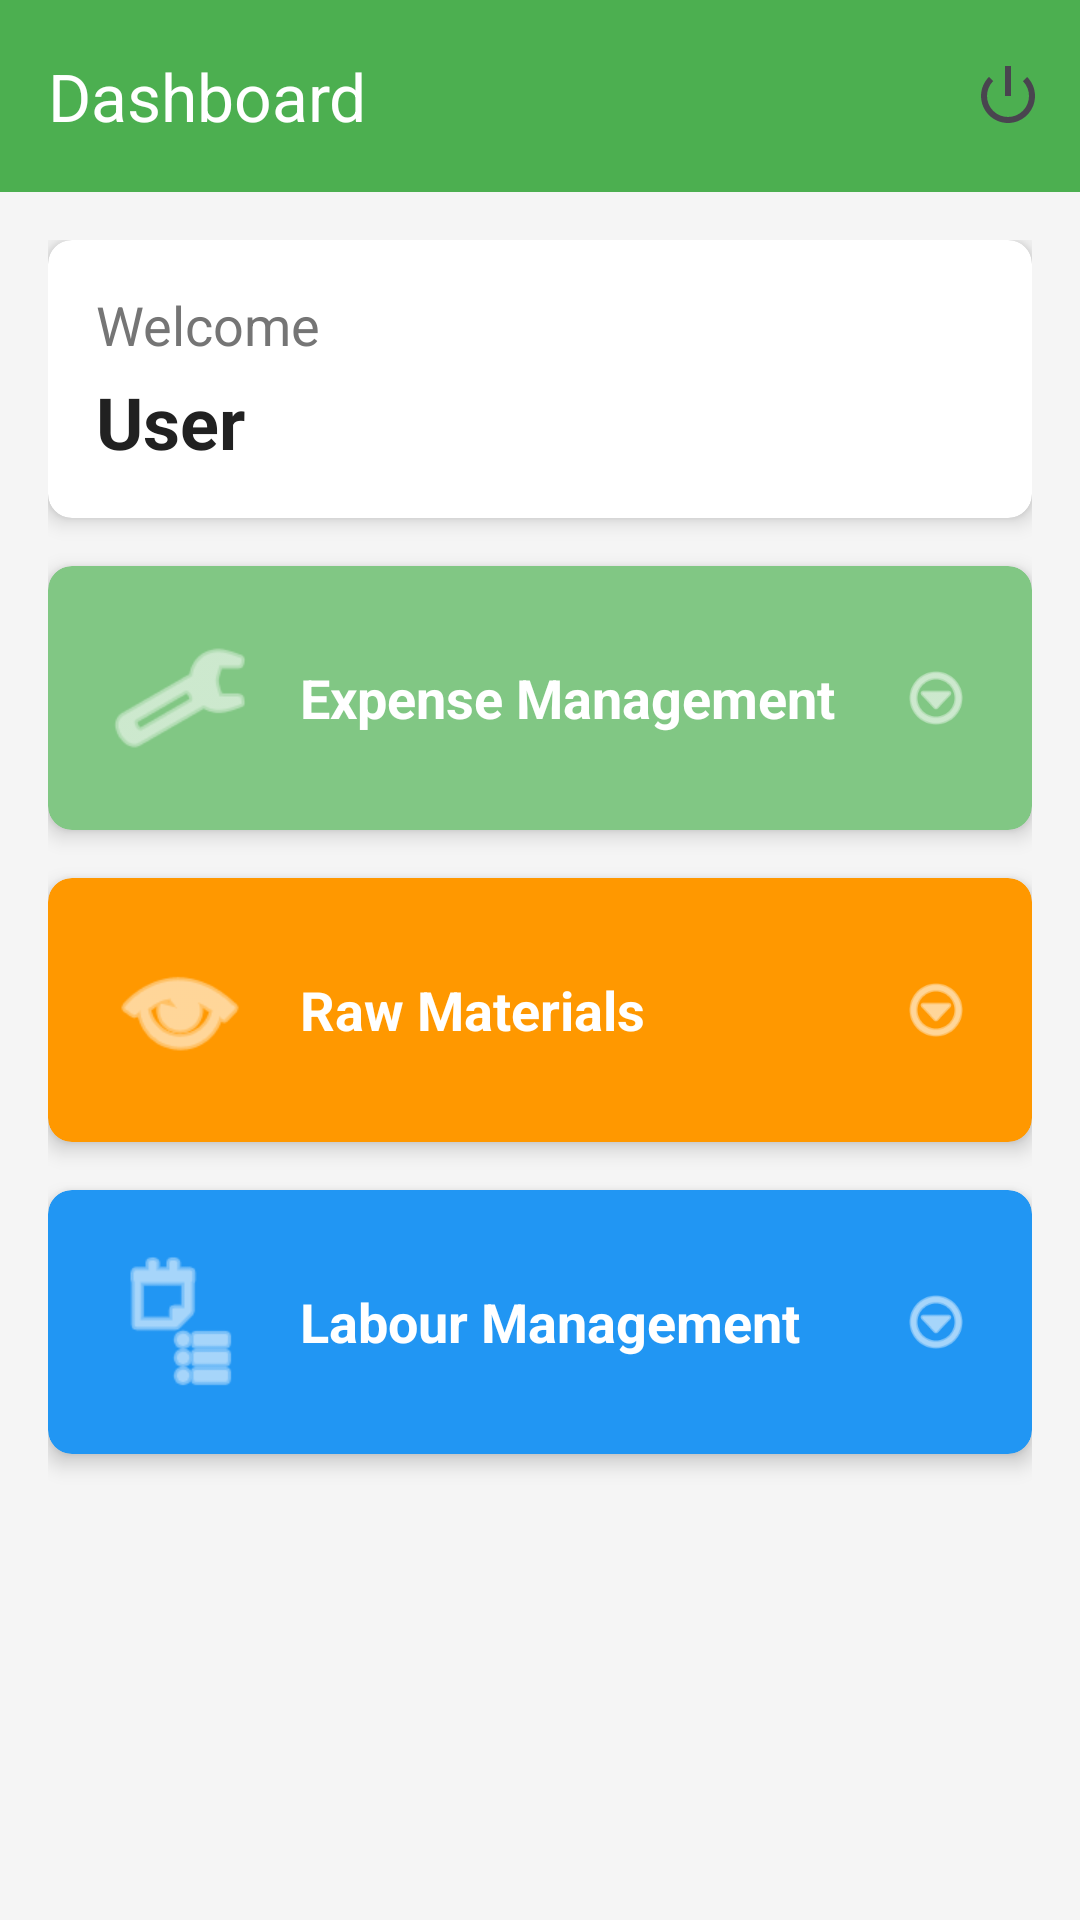

Where icons sit on this 1080×1920 app screen, as (left=x1, top=y1, right=x2, bottom=y2):
agenda: (left=130, top=1257, right=231, bottom=1385)
more: (left=910, top=672, right=962, bottom=724), (left=909, top=983, right=963, bottom=1037), (left=909, top=1295, right=963, bottom=1349)
view: (left=121, top=977, right=239, bottom=1051)
